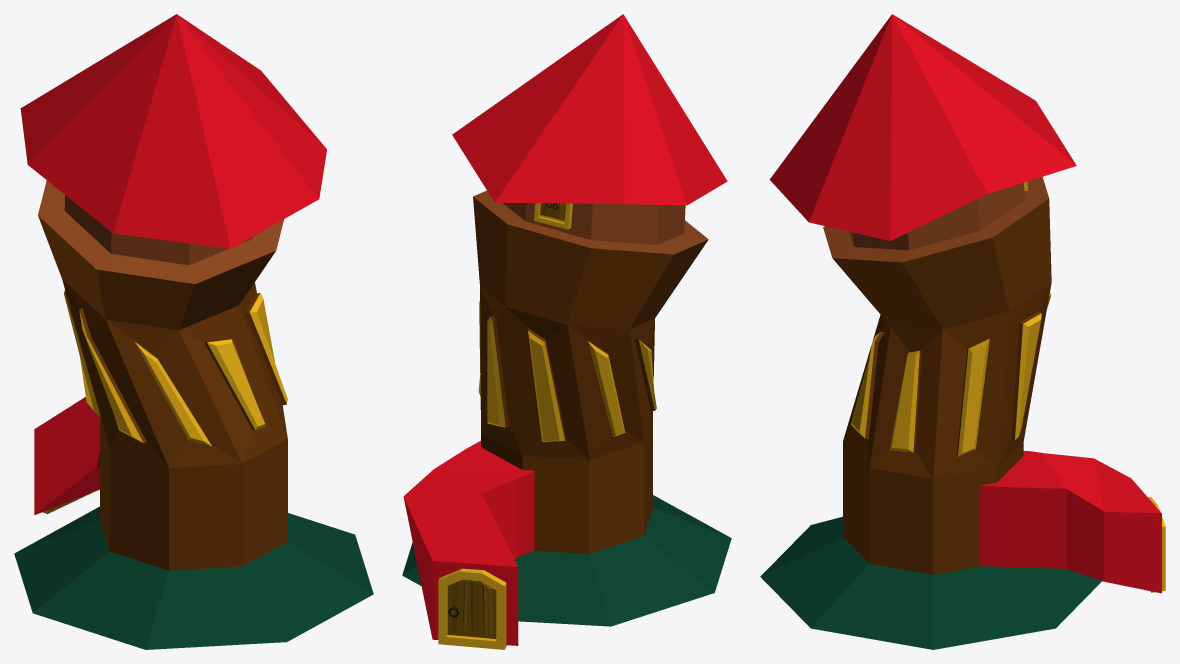
File: RedMageTower.fbx
3 views of the same model, side by side, from view 1: azimuth 30°, elevation 25°; view 2: azimuth 150°, elevation 25°; view 3: azimuth 270°, elevation 25° (orthographic). The views are drawn at different scales.
Parts seen in each view (by area): view 1: Entrance tunnel; view 2: Entrance tunnel; view 3: Entrance tunnel.
Part boxes in pixels (x1=…): Entrance tunnel: x1=14, y1=14, x2=373, y2=649; Entrance tunnel: x1=402, y1=14, x2=731, y2=649; Entrance tunnel: x1=760, y1=14, x2=1165, y2=649.
Bounding box in the file's own units: 383 × 674 × 449.
